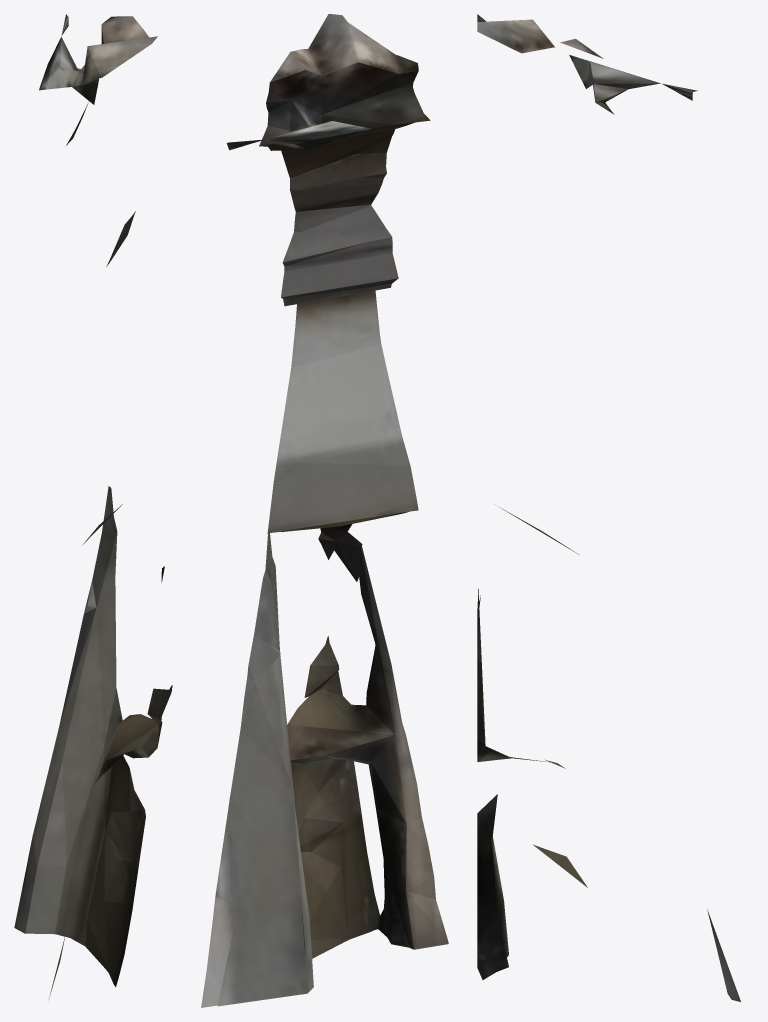
3 renders of one model, left to right at view 1: azimuth 30°, elevation 25°; view 2: azimuth 150°, elevation 25°; view 3: azimuth 270°, elevation 25°, orthographic. The views are drawn at different scales.
Bounding box in the file's own units: 0.3608 × 2.59 × 0.6616.
1 material, 1 textured.
